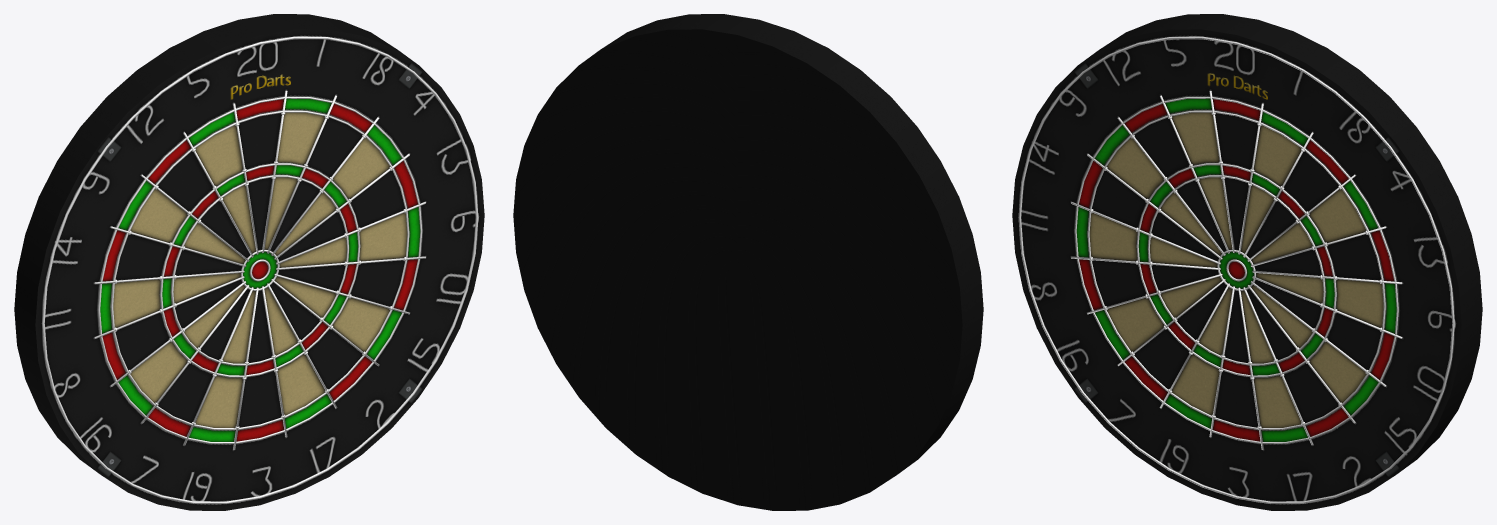
File: DartBoard.fbx
3 views of the same model, side by side, from view 1: azimuth 30°, elevation 25°; view 2: azimuth 150°, elevation 25°; view 3: azimuth 330°, elevation 25° (orthographic).
Visible parts, largest first — view 1: DartBoard; view 2: DartBoard; view 3: DartBoard.
Boxes of the visible parts, <box> form: DartBoard: <box>14,14,484,510</box>; DartBoard: <box>513,14,983,510</box>; DartBoard: <box>1012,14,1482,510</box>.
Bounding box in the file's own units: 46.79 × 46.79 × 4.02.
